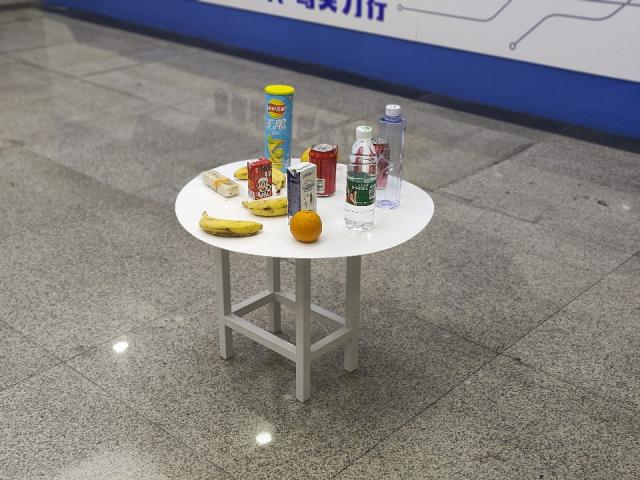Canned_drinks: (312, 144, 337, 195)
bottle: (347, 120, 376, 235), (379, 104, 407, 211)
cylinder: (264, 84, 298, 159)
drink_box: (287, 164, 318, 210), (250, 160, 272, 195)
